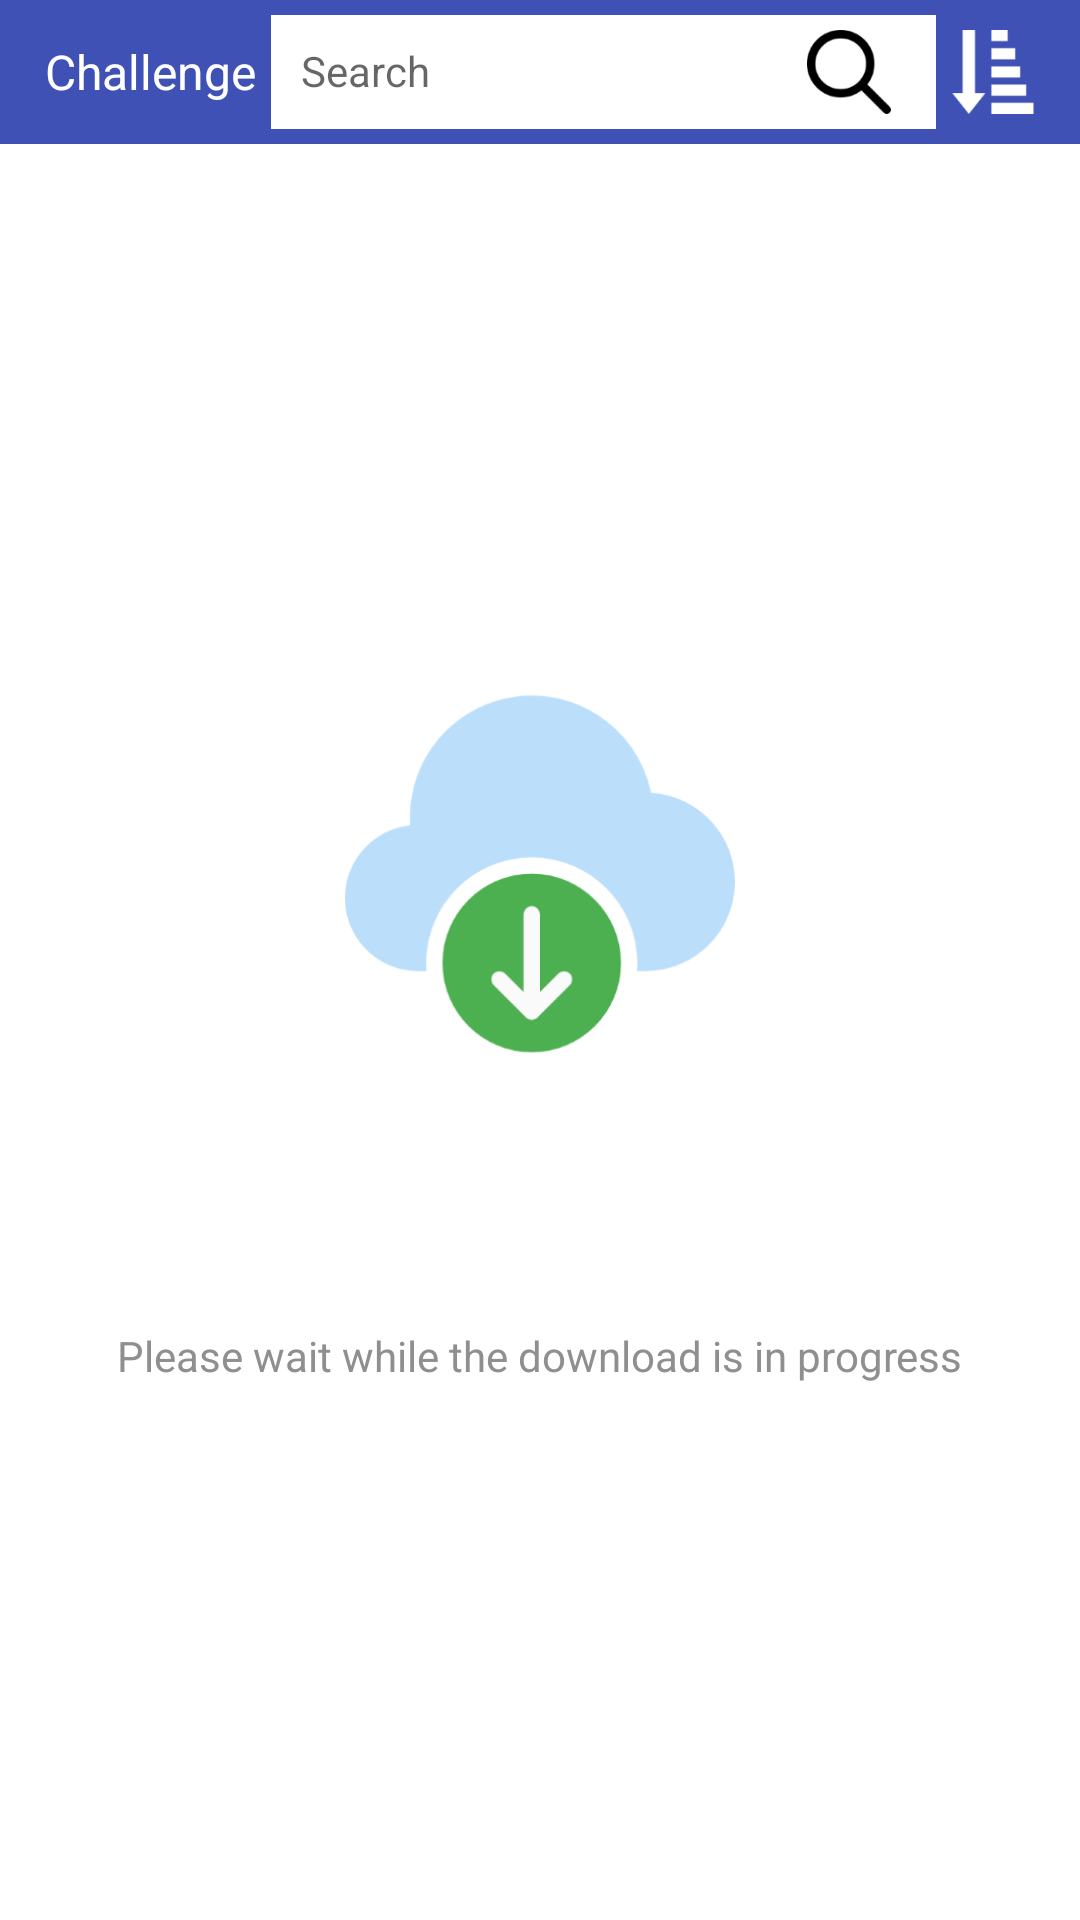

Icons on this 1080 x 1920 Android screen, each with its box as bbox(x1, y1, x2, y2):
sort: bbox(952, 30, 1034, 114)
